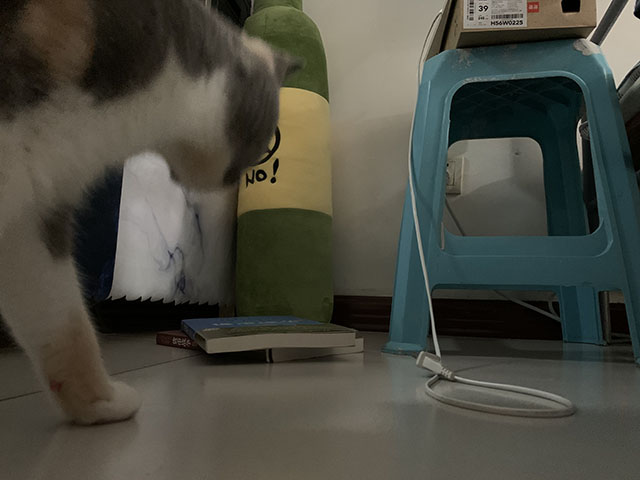book: (149, 313, 367, 366)
stool: (381, 37, 640, 367)
wire: (405, 8, 577, 420)
